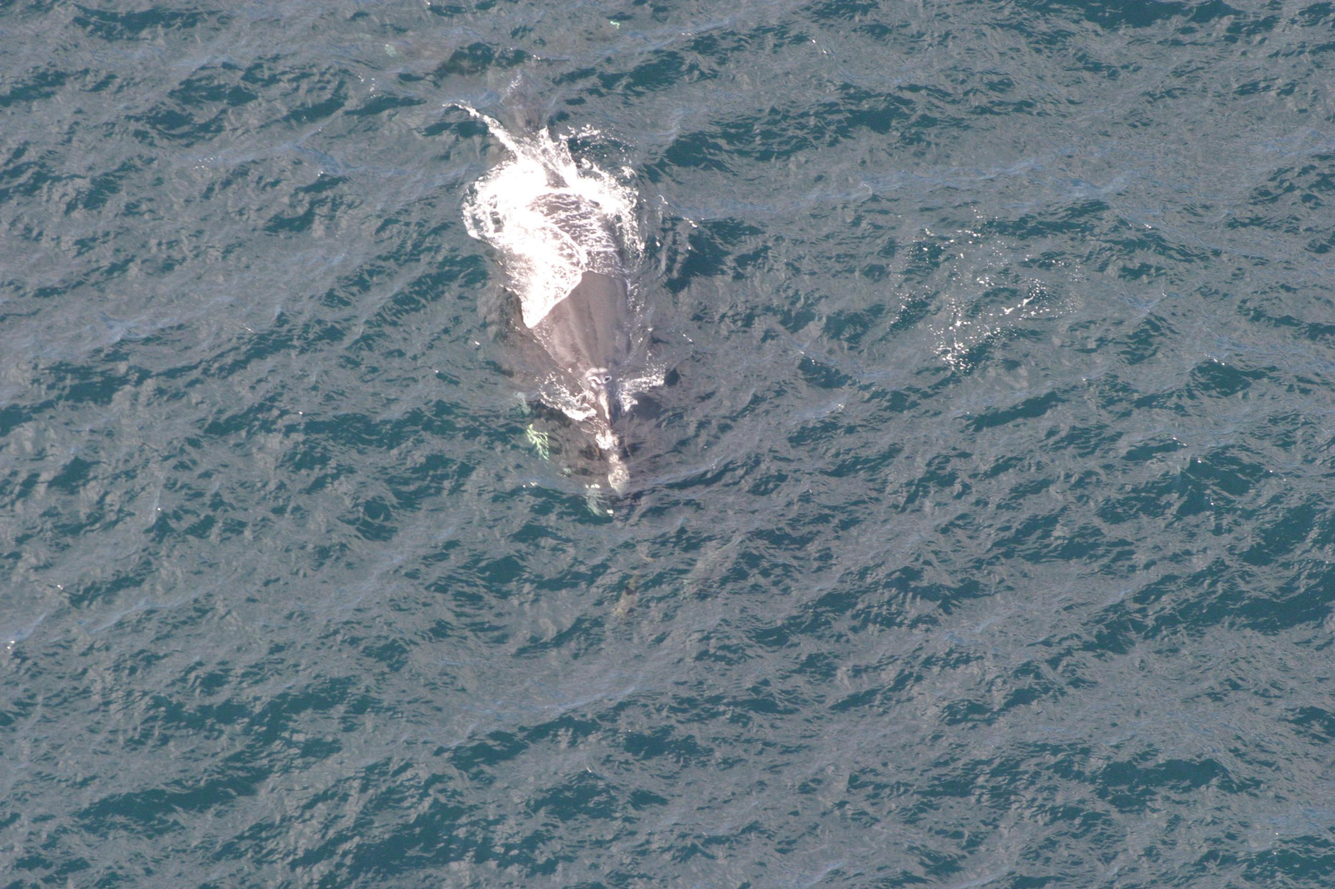whale: (408, 43, 690, 526)
